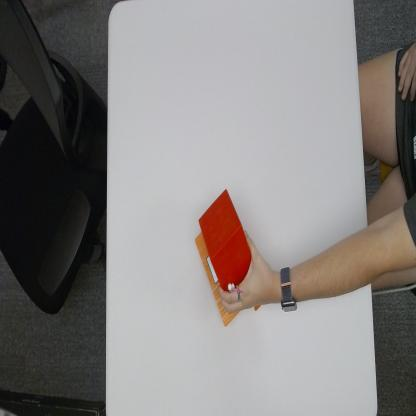Arm: (298, 245, 372, 300)
Hand: (218, 266, 277, 322)
House: (194, 191, 248, 328)
